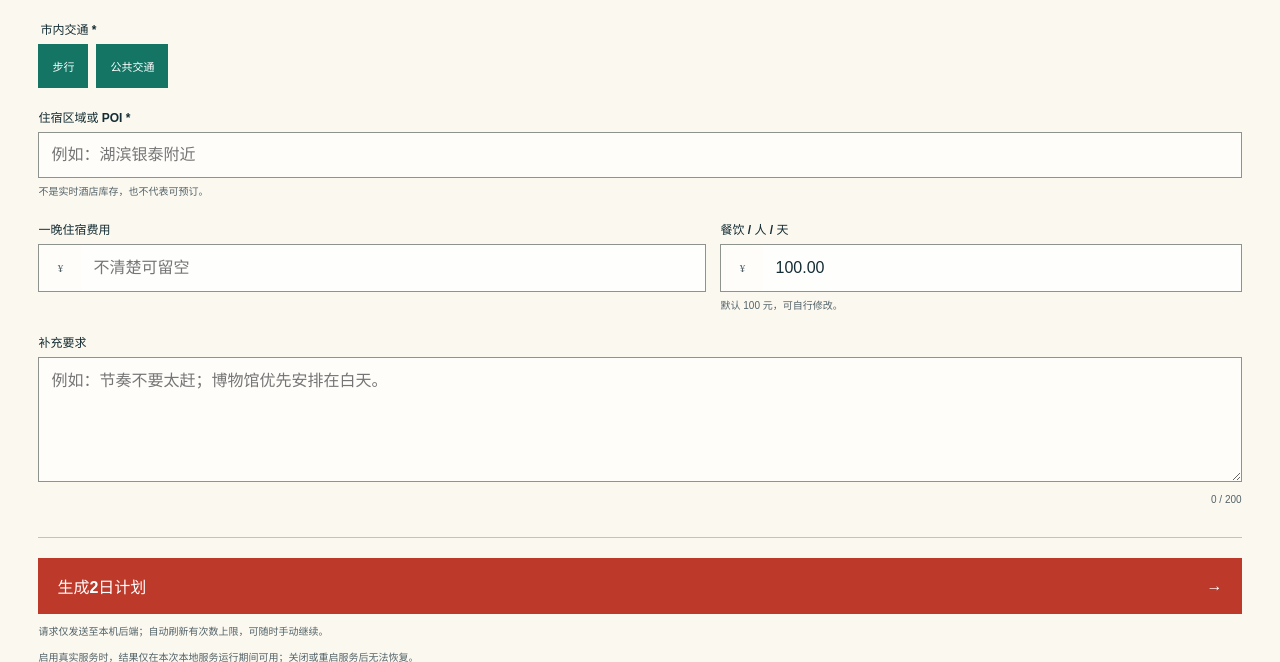
it: TripRequestForm › shows field errors, links them to controls and focuses the first error
(page scrolled)
Click the button "生成2日计划 →". click: [102, 588]
box: [38, 558, 1242, 614]
(page scrolled)
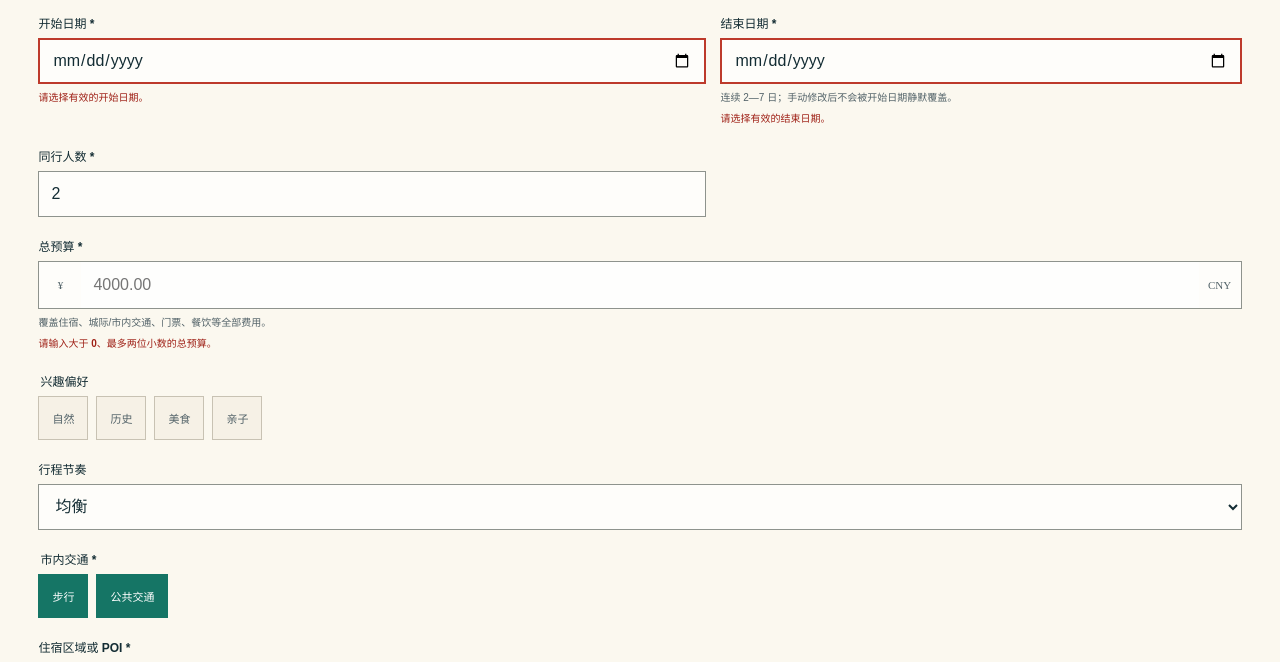
Result: the text "请选择有效的开始日期。" is shown at [38, 92, 148, 103]
Result: the text "请输入大于 0、最多两位小数的总预算。" is shown at [38, 338, 217, 349]
